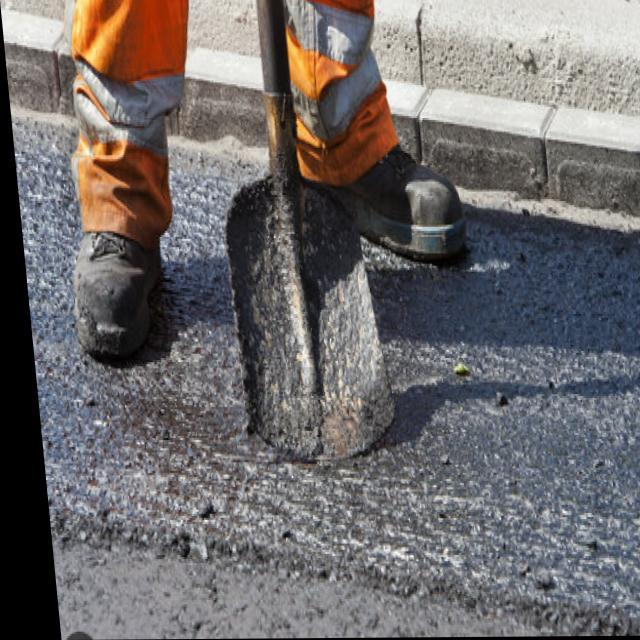shoes: (44, 55, 485, 364)
